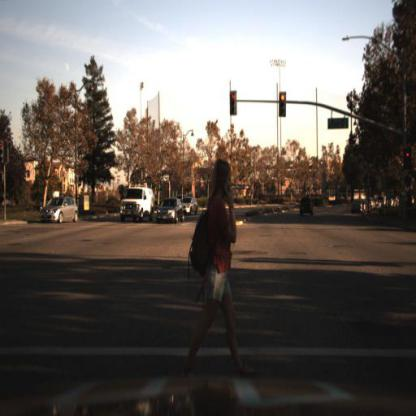car: (119, 182, 157, 233), (38, 193, 85, 230), (156, 193, 187, 228), (294, 186, 321, 226), (179, 195, 202, 220), (185, 197, 203, 219), (299, 193, 315, 217), (351, 197, 364, 216)
pedestrian: (181, 135, 246, 390)
trafficLight-Red: (278, 88, 289, 121), (403, 145, 415, 174)
trafficLight-RedLeft: (229, 88, 239, 119)
